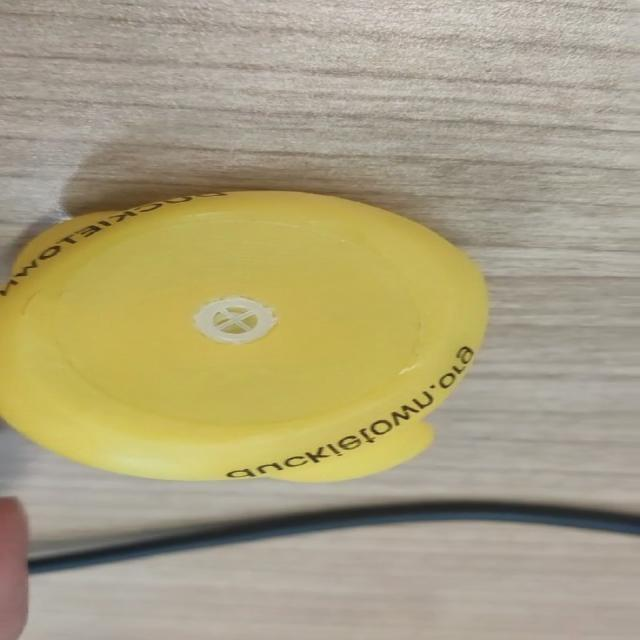rubber-duck: (0, 190, 486, 480)
